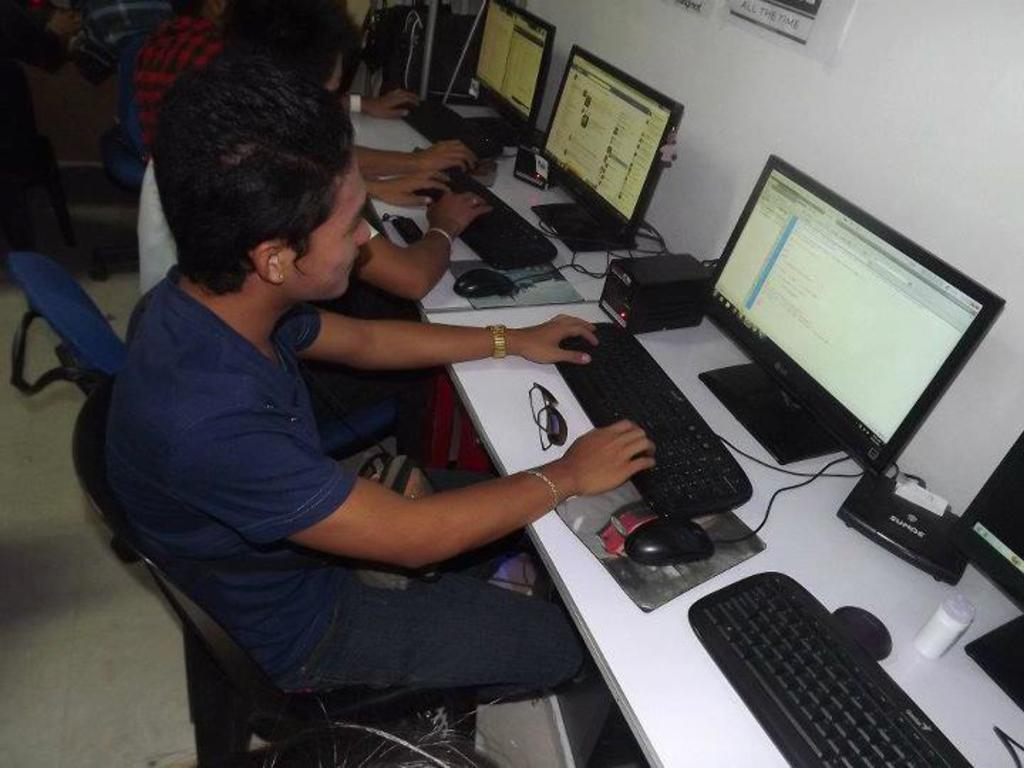Computer-keyboard: (683, 567, 974, 767), (555, 321, 754, 521), (415, 168, 559, 269), (398, 97, 501, 164)
